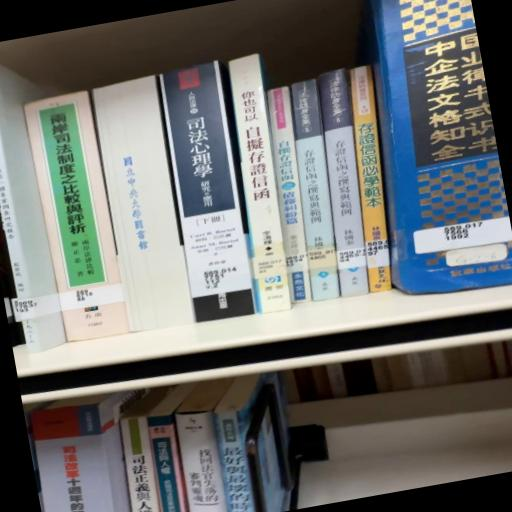backward: (87, 73, 200, 332)
book: (340, 1, 512, 311), (151, 56, 268, 324), (215, 51, 303, 314), (173, 407, 234, 512), (115, 414, 169, 512)
